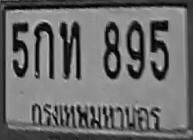5: (149, 20, 169, 80), (12, 22, 28, 78)
8: (102, 21, 121, 79)
9: (126, 20, 144, 80)
A01: (34, 22, 54, 79)
A23: (60, 20, 82, 80)
BKK: (23, 99, 167, 135)
